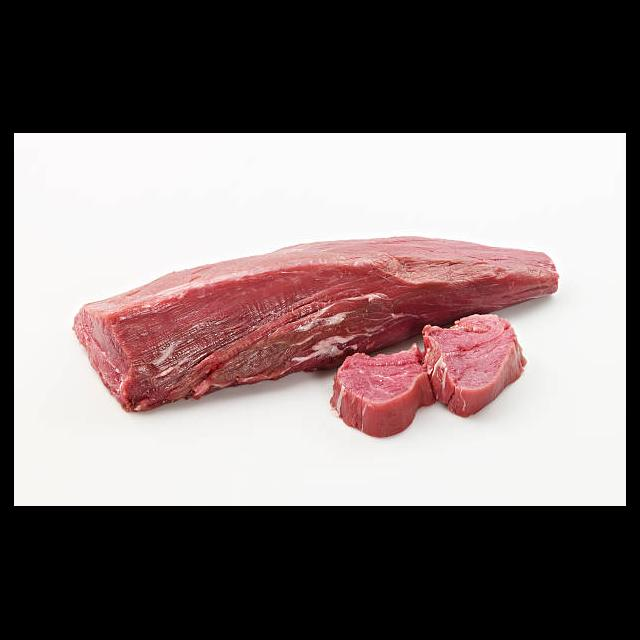beef: (72, 235, 558, 411), (421, 310, 527, 420), (333, 346, 432, 439)
